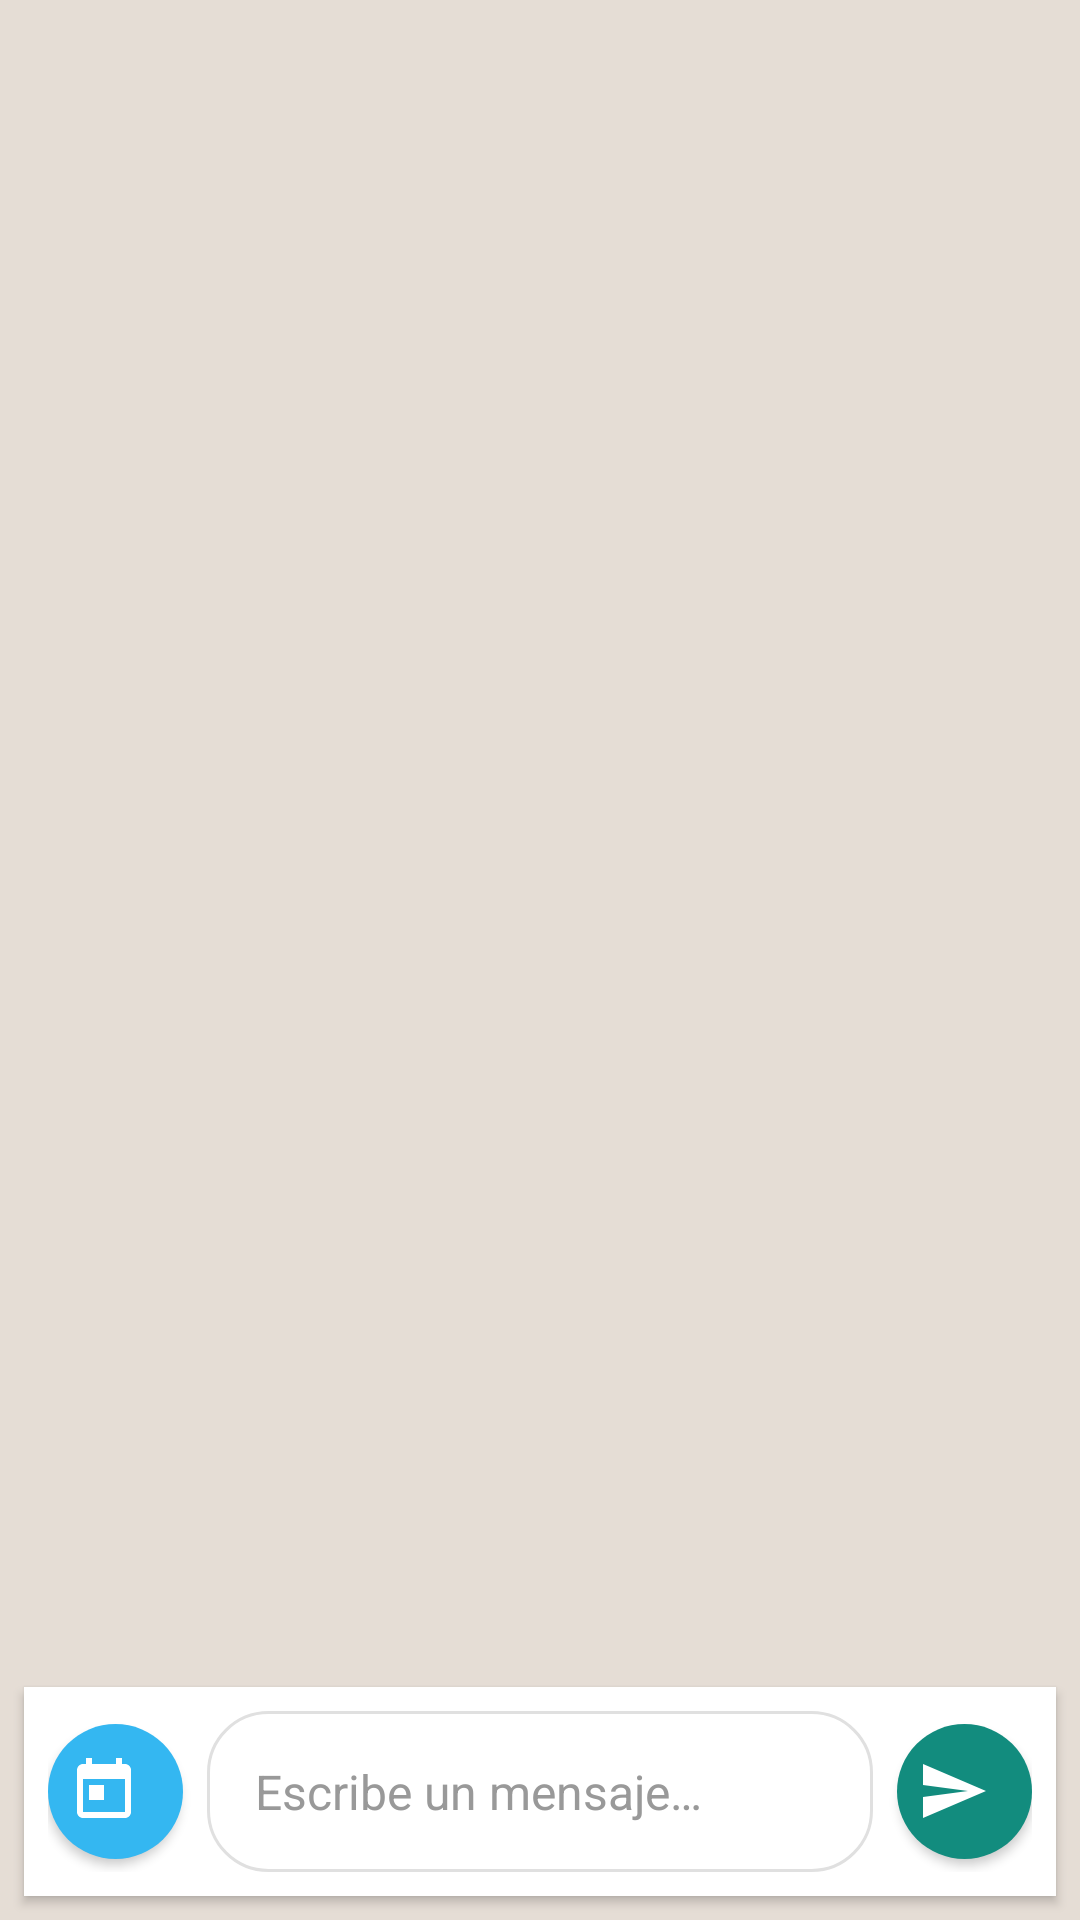

Icons on this 1080 x 1920 Android screen, each with its box as (x1, y1, x2, y2):
Abrir calendario para recordatorio: (48, 1724, 183, 1859)
Enviar mensaje: (897, 1724, 1032, 1859)
